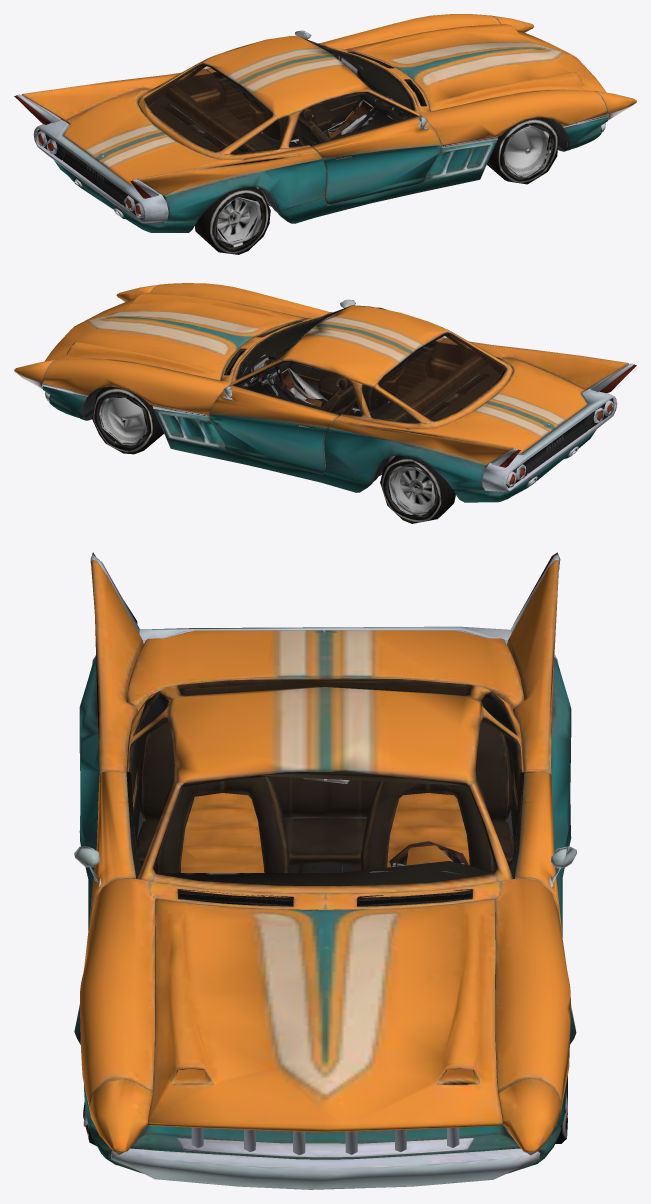
Rendered from skylark.glb.
3 views of the same model, one above another, from view 1: azimuth 30°, elevation 25°; view 2: azimuth 150°, elevation 25°; view 3: azimuth 270°, elevation 25° (orthographic). The views are drawn at different scales.
Parts seen in each view (by area): view 1: car_body_body_one_mat_0, car_body_body_two_mat_0, car_body_glass_mat_0, door_l_body_one_mat_0, wheel_b_wheels_mat_0, car_body_interior_one_mat_0, car_body_interior_two_mat_0, door_l_glass_mat_0, car_body_details_mat_0, door_l_interior_one_mat_0; view 2: car_body_body_one_mat_0, car_body_body_two_mat_0, car_body_glass_mat_0, door_l_body_one_mat_0, wheel_b_wheels_mat_0, car_body_interior_one_mat_0, car_body_interior_two_mat_0, door_l_glass_mat_0, door_l_interior_one_mat_0, car_body_details_mat_0; view 3: car_body_body_one_mat_0, car_body_body_two_mat_0, car_body_glass_mat_0, car_body_interior_two_mat_0, door_l_body_one_mat_0, door_l_glass_mat_0, car_body_interior_one_mat_0, car_body_details_mat_0, door_l_details_mat_0, door_l_interior_one_mat_0.
Boxes of the visible parts, left/top/right/bottom form: car_body_body_one_mat_0: left=21, top=14, right=636, bottom=223; car_body_body_two_mat_0: left=16, top=36, right=605, bottom=232; car_body_glass_mat_0: left=14, top=30, right=633, bottom=214; door_l_body_one_mat_0: left=206, top=43, right=442, bottom=204; wheel_b_wheels_mat_0: left=195, top=117, right=558, bottom=254; car_body_interior_one_mat_0: left=149, top=50, right=425, bottom=154; car_body_interior_two_mat_0: left=165, top=85, right=357, bottom=152; door_l_glass_mat_0: left=213, top=71, right=416, bottom=144; car_body_details_mat_0: left=53, top=49, right=610, bottom=217; door_l_interior_one_mat_0: left=212, top=72, right=414, bottom=145; car_body_body_one_mat_0: left=14, top=283, right=628, bottom=492; car_body_body_two_mat_0: left=44, top=305, right=634, bottom=502; car_body_glass_mat_0: left=17, top=299, right=636, bottom=484; door_l_body_one_mat_0: left=208, top=312, right=444, bottom=473; wheel_b_wheels_mat_0: left=92, top=386, right=455, bottom=523; car_body_interior_one_mat_0: left=225, top=321, right=501, bottom=423; car_body_interior_two_mat_0: left=293, top=355, right=485, bottom=422; door_l_glass_mat_0: left=234, top=340, right=437, bottom=413; door_l_interior_one_mat_0: left=233, top=341, right=438, bottom=415; car_body_details_mat_0: left=40, top=307, right=578, bottom=486; car_body_body_one_mat_0: left=74, top=559, right=576, bottom=1173; car_body_body_two_mat_0: left=90, top=554, right=560, bottom=1189; car_body_glass_mat_0: left=92, top=552, right=557, bottom=1155; car_body_interior_two_mat_0: left=136, top=721, right=514, bottom=872; door_l_body_one_mat_0: left=88, top=771, right=562, bottom=937; door_l_glass_mat_0: left=129, top=722, right=521, bottom=874; car_body_interior_one_mat_0: left=155, top=778, right=495, bottom=969; car_body_details_mat_0: left=136, top=629, right=517, bottom=906; door_l_details_mat_0: left=74, top=772, right=576, bottom=887; door_l_interior_one_mat_0: left=126, top=772, right=524, bottom=878.
Size of the model in its own units: 4.57 by 1.04 by 1.94.
8 materials, 8 textured.
